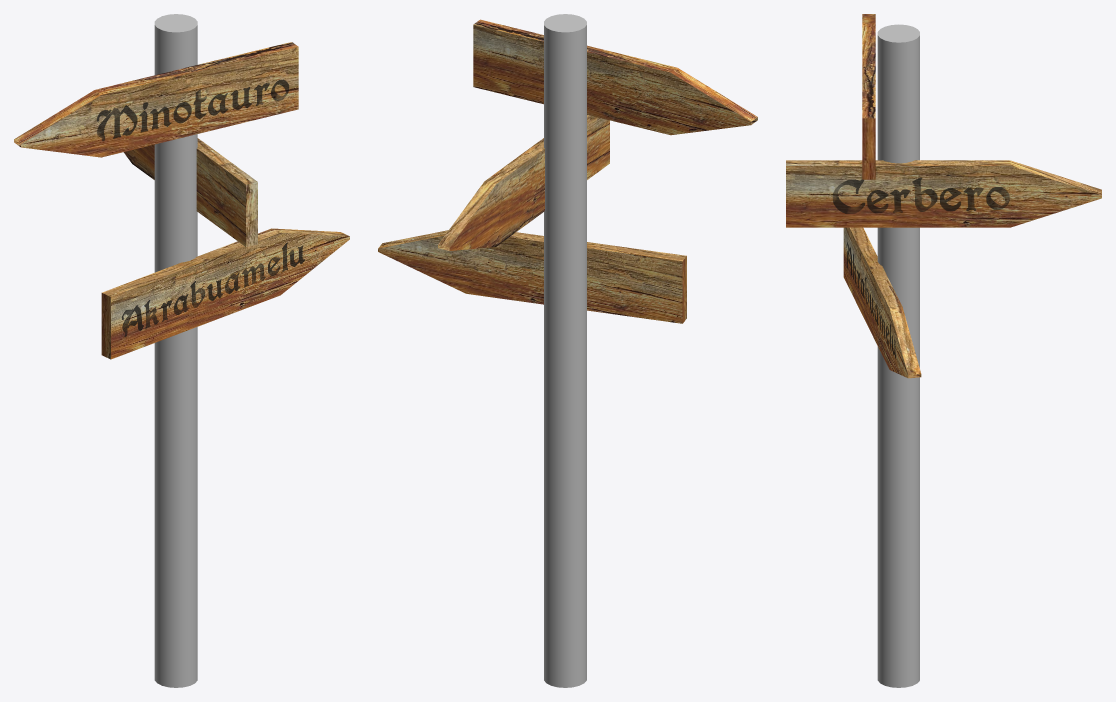
Rendered from señal.FBX.
3 views of the same model, side by side, from view 1: azimuth 30°, elevation 25°; view 2: azimuth 150°, elevation 25°; view 3: azimuth 270°, elevation 25° (orthographic).
Parts seen in each view (by area): view 1: Box001, Cylinder001; view 2: Box001, Cylinder001; view 3: Box001, Cylinder001.
Boxes of the visible parts, x1,y1,x2,y2 form: Box001: (14, 42, 349, 359); Cylinder001: (154, 14, 197, 687); Box001: (378, 19, 757, 323); Cylinder001: (544, 14, 586, 687); Box001: (786, 14, 1101, 378); Cylinder001: (877, 24, 919, 687).
Bounding box in the file's own units: 2496 × 4438 × 1968.
